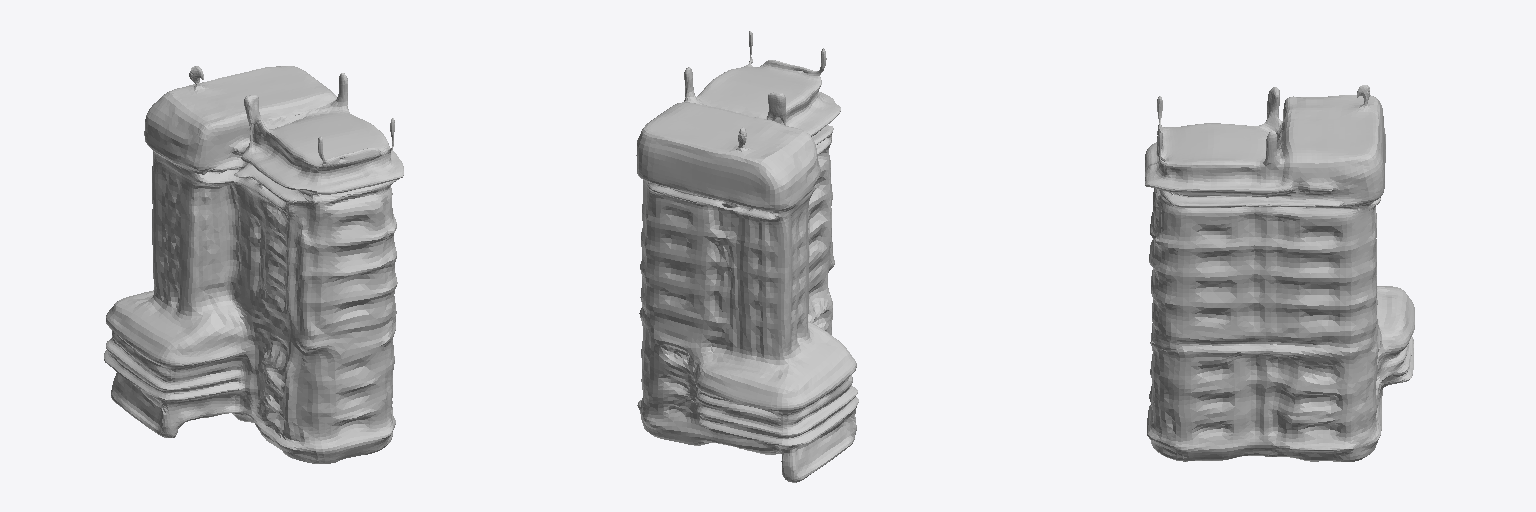
Rendered from 229f007617c9_sci_fi_residential_.obj.
The picture shows the model from 3 angles: view 1: azimuth 30°, elevation 25°; view 2: azimuth 150°, elevation 25°; view 3: azimuth 270°, elevation 25°; orthographic projection.
Parts seen in each view (by area): view 1: mesh; view 2: mesh; view 3: mesh.
Boxes of the visible parts, box(x1,y1,x2,y2) form: mesh: box(104, 66, 403, 463); mesh: box(636, 31, 858, 482); mesh: box(1145, 85, 1414, 461).
Bounding box in the file's own units: 0.6124 × 0.9942 × 0.7353.